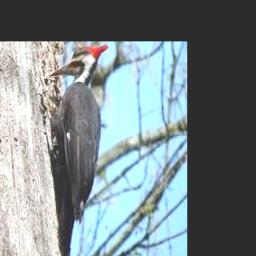Woodpecker: (47, 45, 109, 223)
